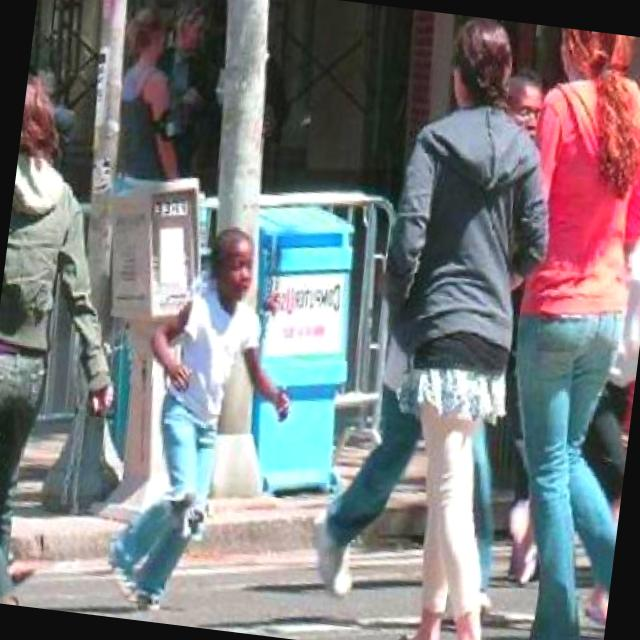Person: (339, 14, 571, 640), (479, 26, 640, 640), (102, 214, 311, 632), (0, 78, 149, 612)
